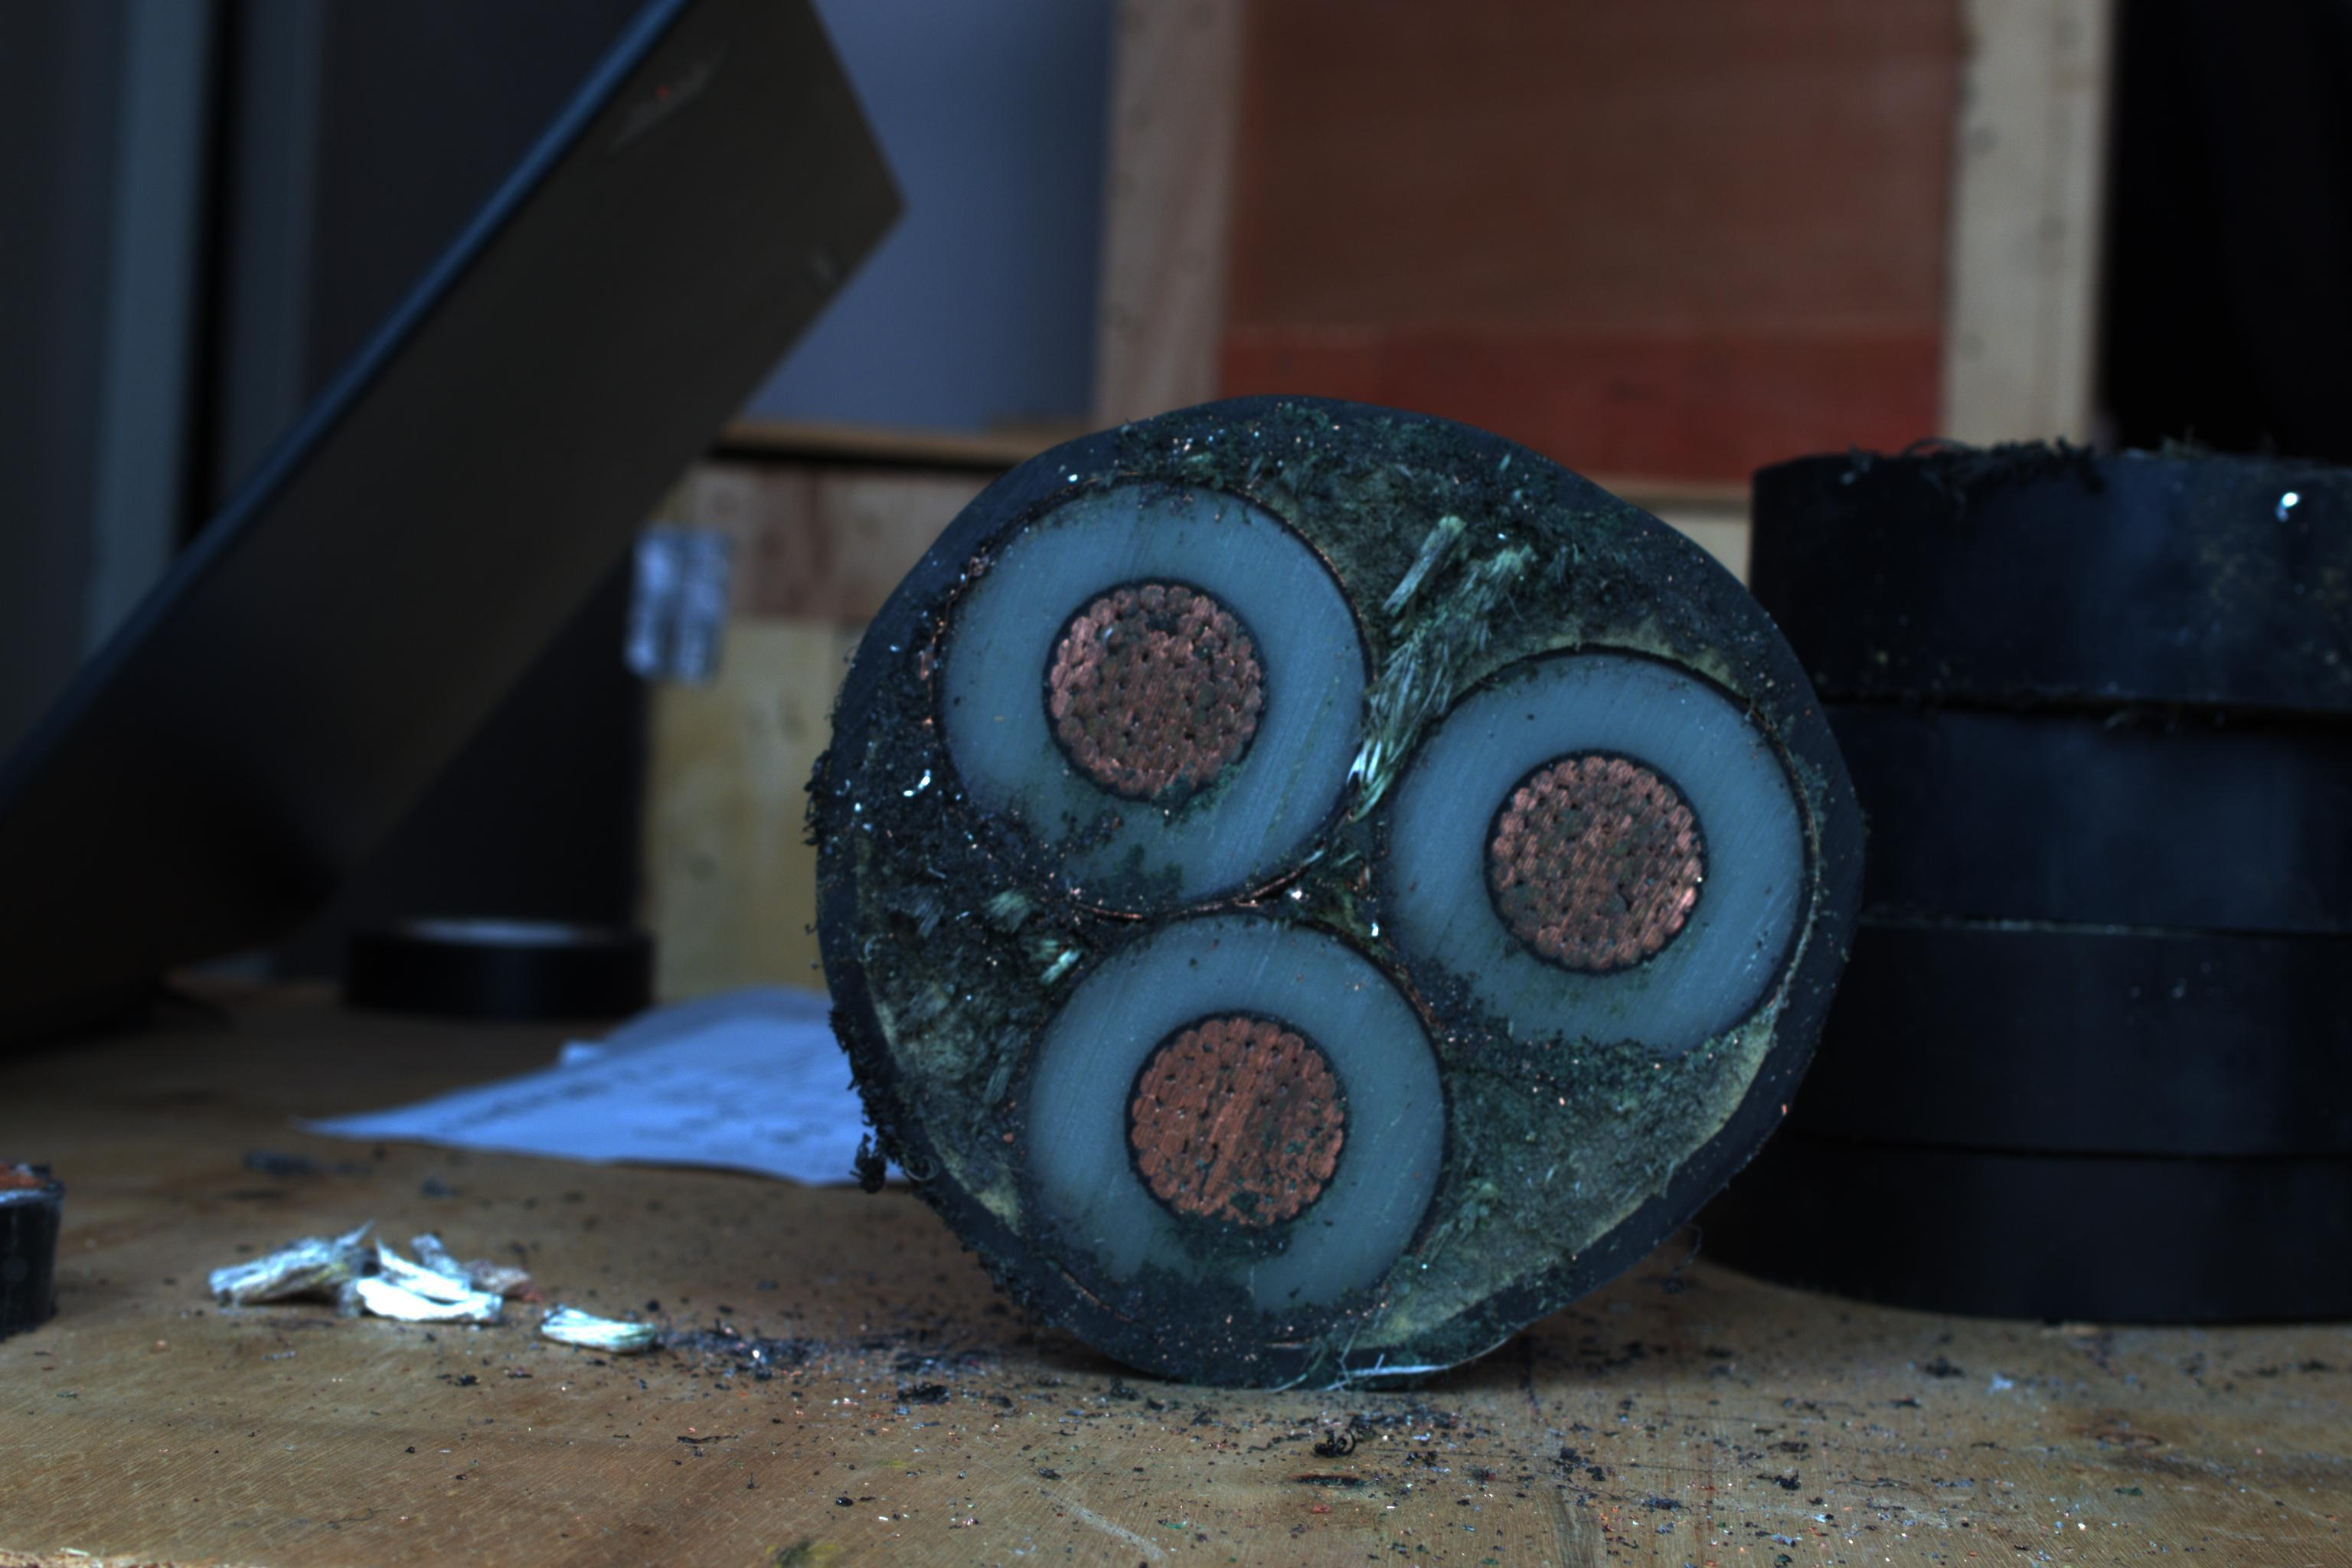ZA_YJV_26_35kV_3x400: (838, 395, 1839, 1403)
